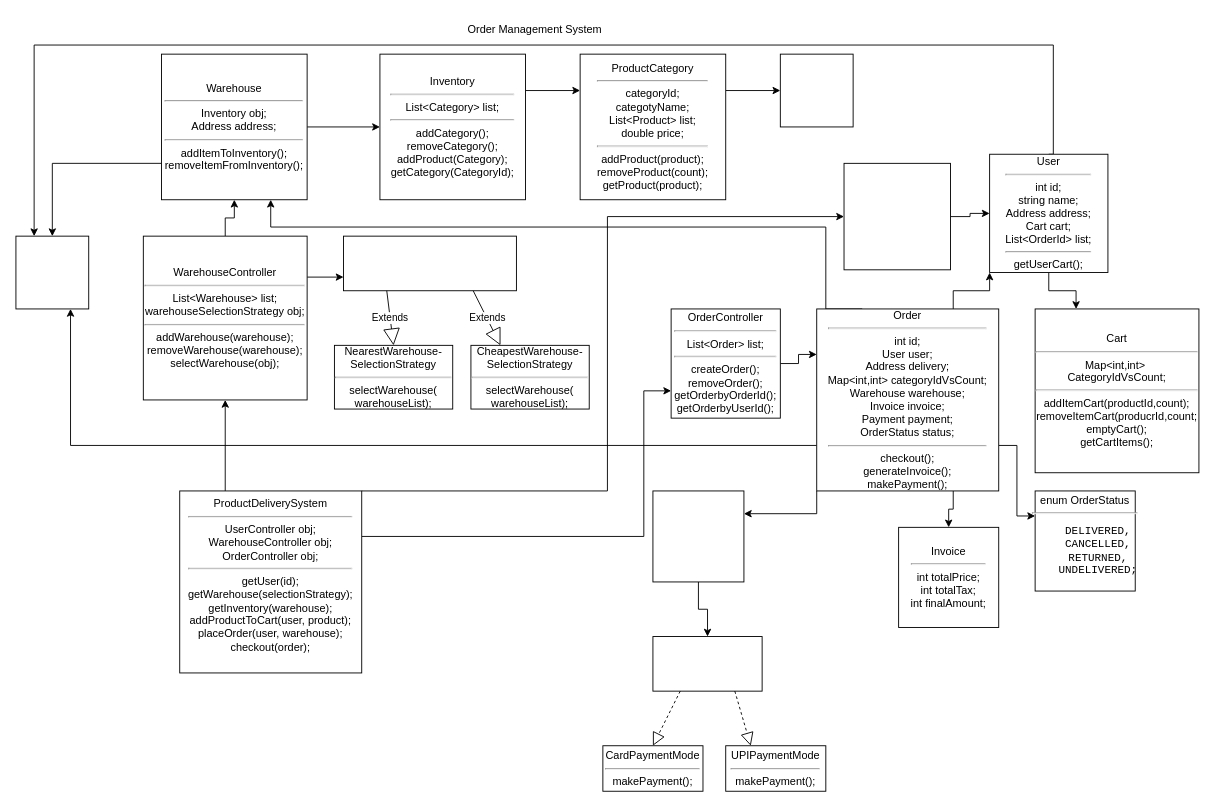
This 1215x807 diagram has some shape labels left out. The centre of each missing label's shape, as x and y in pixels:
Address city; state; pincode;: point (52, 272)
Payment PaymentMode obj; makePayment();: point (698, 536)
Product int id; String name;: point (816, 90)
UserController List<User> list; addUser(); removeUser();: point (896, 216)
warehouseSelectionStrategy selectWarehouse(warehouseList);: point (429, 263)
«interface» PaymentMode; makePayment();: point (707, 663)
